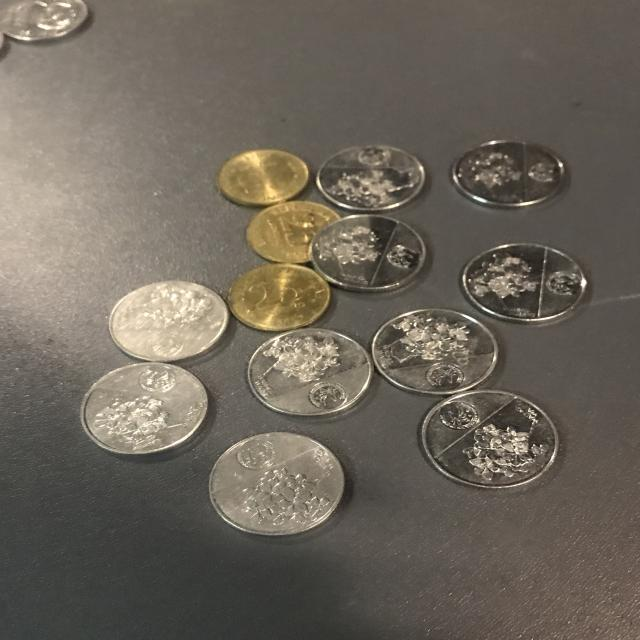1_New_Back: (230, 466, 336, 528), (457, 420, 548, 484)
